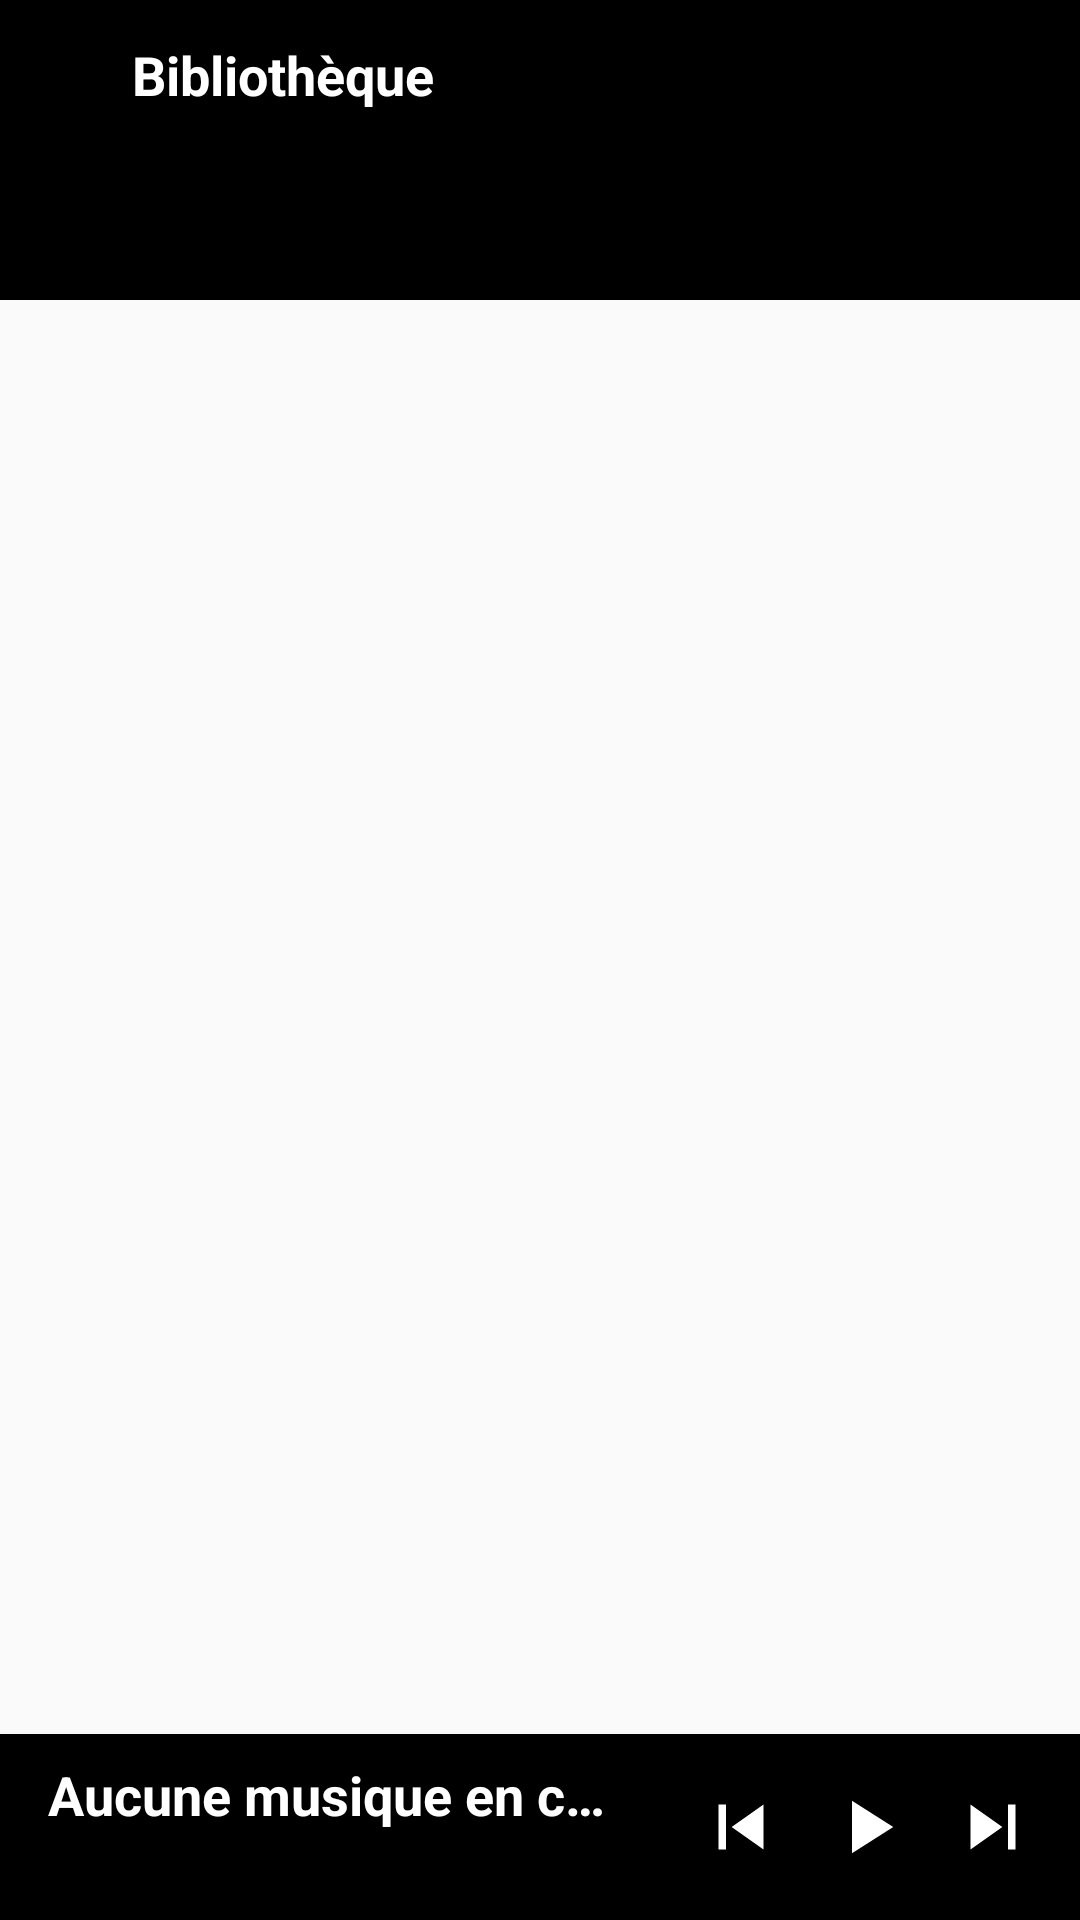

Locate icon controls on the screen. Image size 1080*1920, boxes as (x1, y1, x2, y2).
play arrow: (852, 1801, 893, 1853)
skip next: (970, 1804, 1016, 1850)
skip previous: (718, 1804, 764, 1850)
